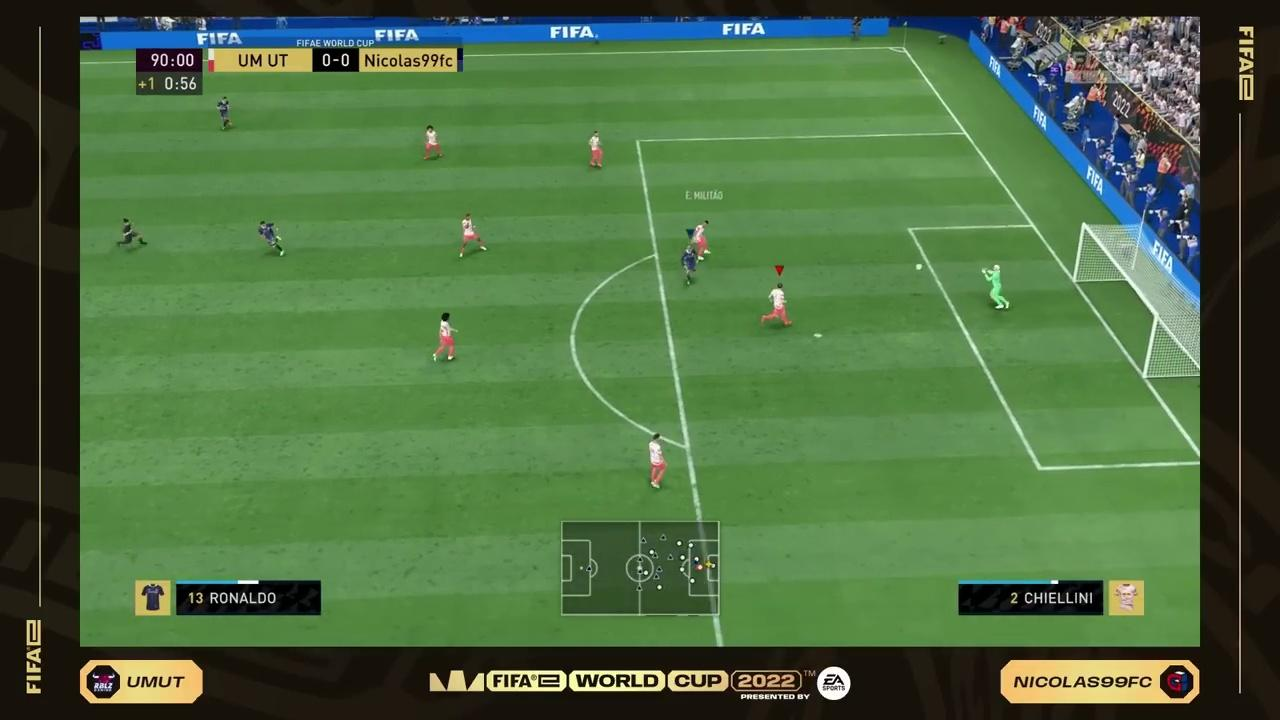scoreboard: (209, 43, 465, 74)
timestamp: (133, 48, 201, 96)
